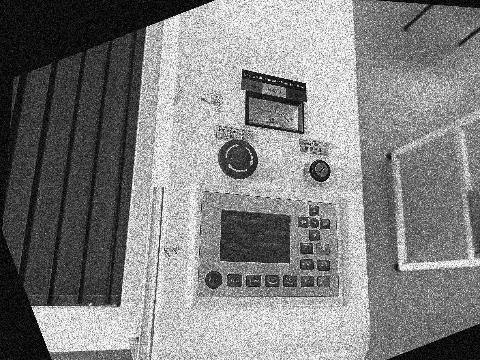Amp_Meter: (246, 91, 303, 132)
Display: (220, 210, 290, 263)
Down_button: (309, 230, 320, 241)
Emergency_Stop: (218, 140, 258, 179)
Enter_button: (317, 243, 329, 254)
Esc_button: (300, 242, 313, 254)
File_button: (300, 275, 314, 287)
Frame_button: (317, 260, 330, 271)
Left_button: (298, 217, 308, 227)
Max-Power_button: (283, 275, 297, 287)
Min-Power_button: (265, 275, 279, 287)
Origin_button: (300, 259, 313, 270)
Power_switch: (304, 160, 330, 186)
Pulse_button: (227, 275, 242, 287)
Reset_button: (205, 271, 222, 289)
Right_button: (320, 218, 330, 229)
Speed_button: (246, 275, 261, 287)
Start-Pause_button: (317, 276, 330, 287)
Up_button: (309, 205, 319, 217)
Z_U_button: (309, 218, 319, 228)
